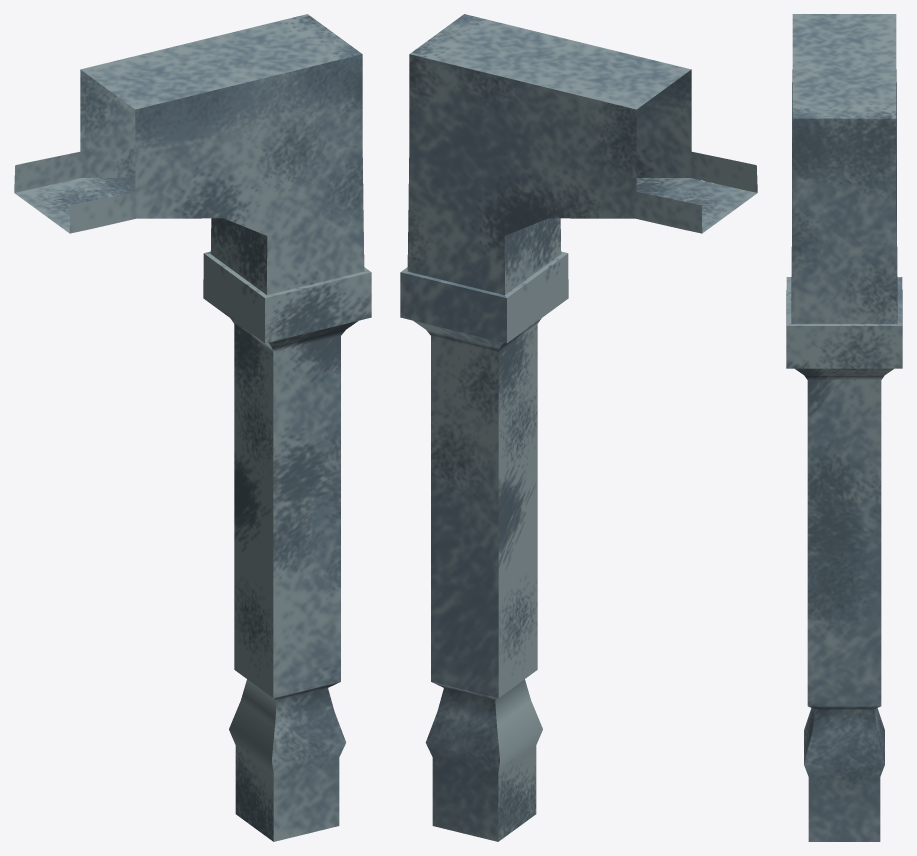
Rendered from ruins2.fbx.
3 views of the same model, side by side, from view 1: azimuth 30°, elevation 25°; view 2: azimuth 150°, elevation 25°; view 3: azimuth 270°, elevation 25° (orthographic). The views are drawn at different scales.
Visible parts, largest first — view 1: ruins2; view 2: ruins2; view 3: ruins2.
Boxes of the visible parts, x1=… form: ruins2: x1=14, y1=14, x2=371, y2=841; ruins2: x1=400, y1=14, x2=757, y2=841; ruins2: x1=786, y1=14, x2=902, y2=841.
Bounding box in the file's own units: 10.3 × 25.48 × 3.68.
1 material, 1 textured.
